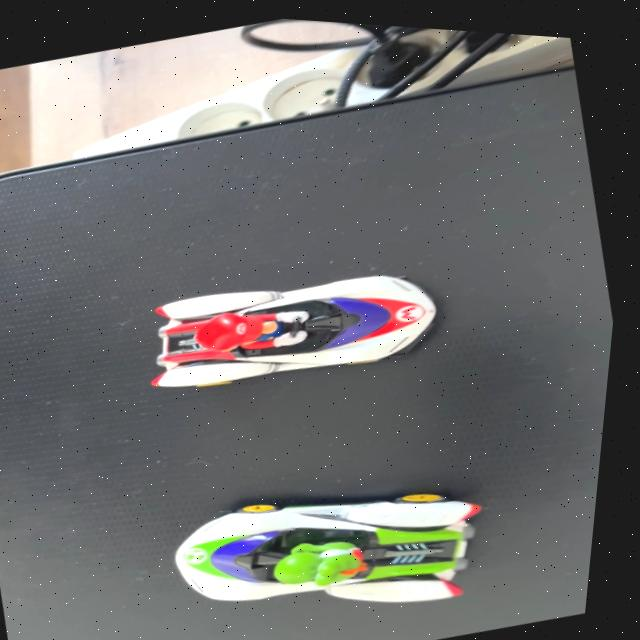mario: (131, 226, 468, 420)
yoshi: (144, 421, 531, 640)
